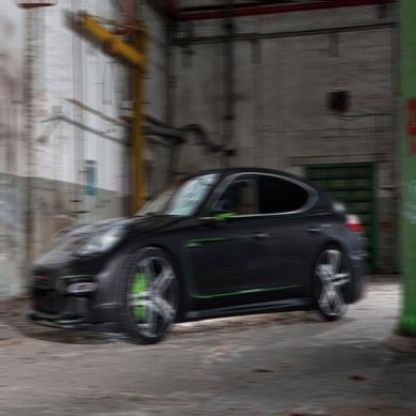Vehicle: (29, 165, 368, 345)
